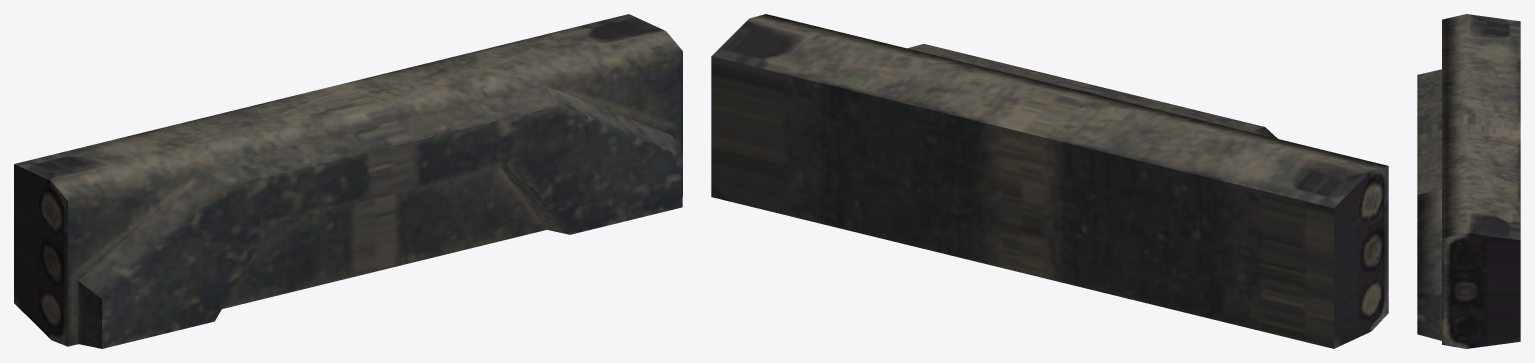
3 views of the same model, side by side, from view 1: azimuth 30°, elevation 25°; view 2: azimuth 150°, elevation 25°; view 3: azimuth 270°, elevation 25° (orthographic). The views are drawn at different scales.
Parts seen in each view (by area): view 1: set_0_group_0; view 2: set_0_group_0; view 3: set_0_group_0.
Boxes of the visible parts, x1=… form: set_0_group_0: x1=14, y1=14, x2=682, y2=348; set_0_group_0: x1=711, y1=14, x2=1388, y2=348; set_0_group_0: x1=1417, y1=14, x2=1520, y2=348.
Bounding box in the file's own units: 0.6164 × 0.1523 × 0.1232.
1 material, 1 textured.
